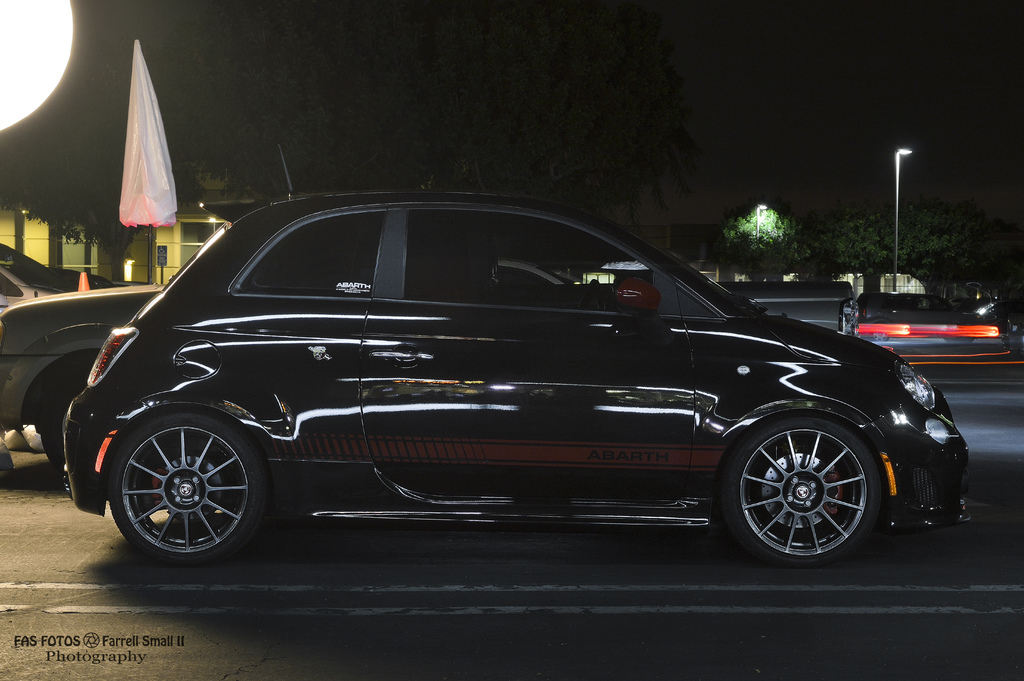mobil: (57, 166, 980, 591)
